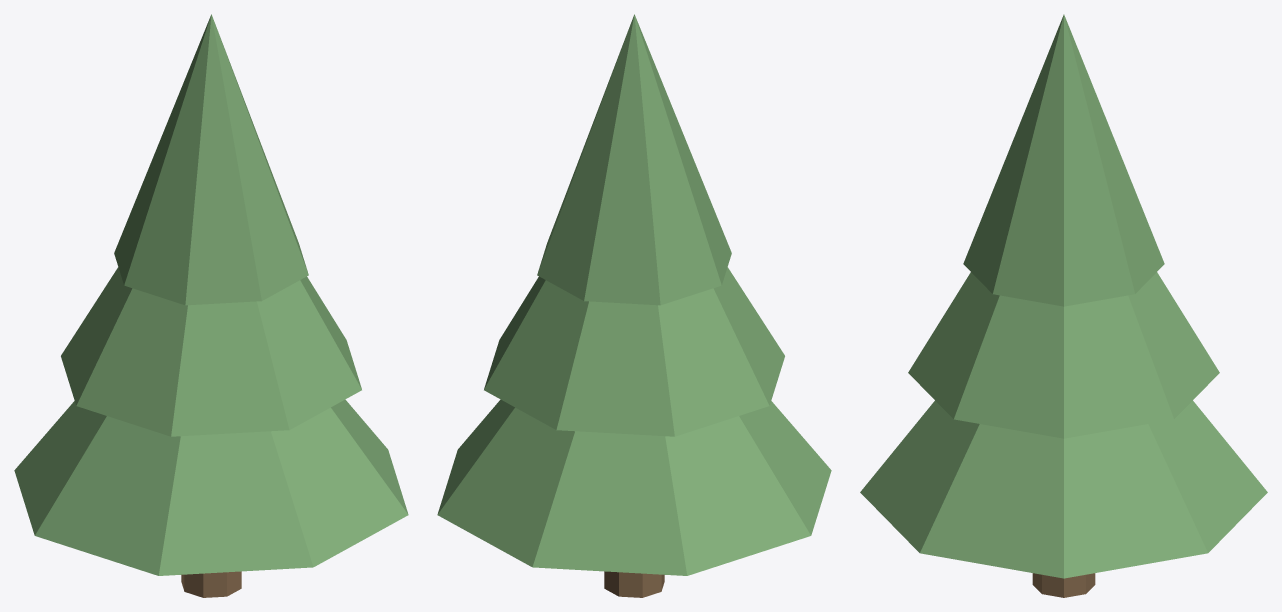
Rendered from PineTree.fbx.
The picture shows the model from 3 angles, left to right: view 1: azimuth 30°, elevation 25°; view 2: azimuth 150°, elevation 25°; view 3: azimuth 270°, elevation 25°; orthographic projection.
Visible parts, largest first — view 1: PineTree; view 2: PineTree; view 3: PineTree.
Part boxes in pixels (x1,y1,x2,y2): PineTree: (14, 14, 408, 597); PineTree: (437, 14, 831, 597); PineTree: (860, 14, 1267, 597).
Bounding box in the file's own units: 1.7 × 2.63 × 1.7.
